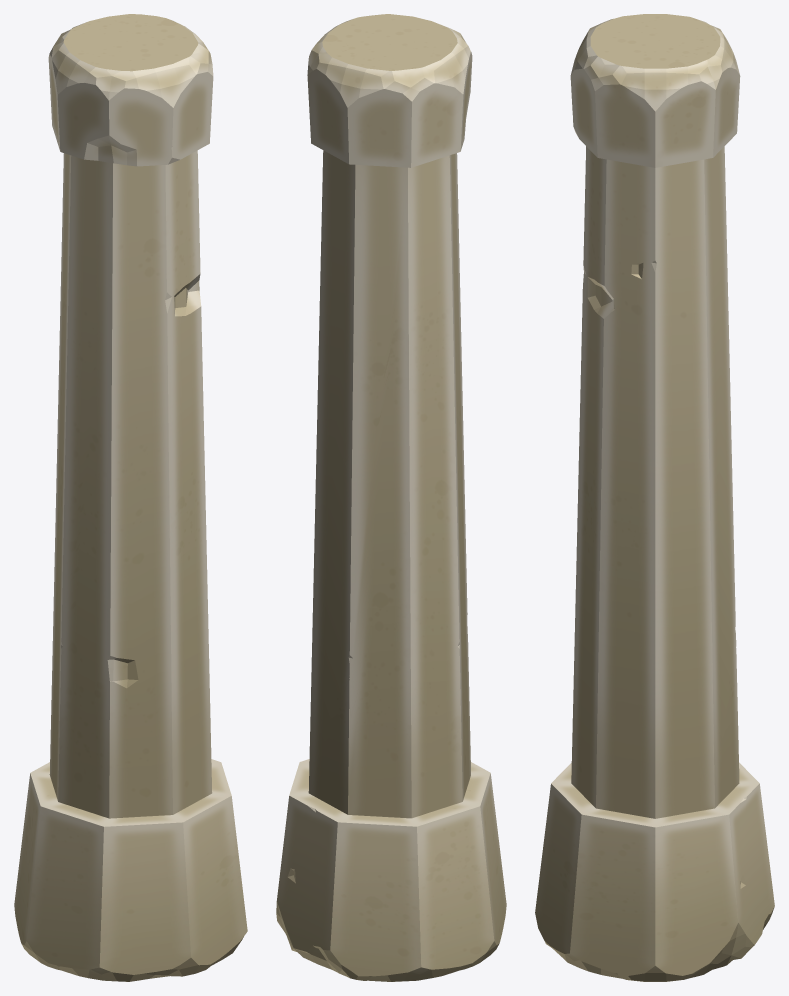
The model's file is columna.fbx.
The picture shows the model from 3 angles, left to right: view 1: azimuth 30°, elevation 25°; view 2: azimuth 150°, elevation 25°; view 3: azimuth 270°, elevation 25°; orthographic projection.
Parts seen in each view (by area): view 1: columna; view 2: columna; view 3: columna.
Part boxes in pixels (x1,y1,x2,y2): columna: (14,14,247,981); columna: (276,14,506,981); columna: (535,14,774,981).
Bounding box in the file's own units: 350 × 1433 × 348.
1 material, 1 textured.
